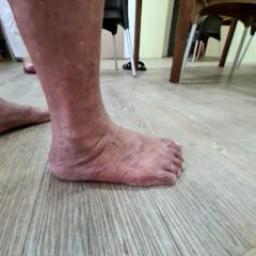Lateral View -Right Foot-: (35, 96, 192, 204)
